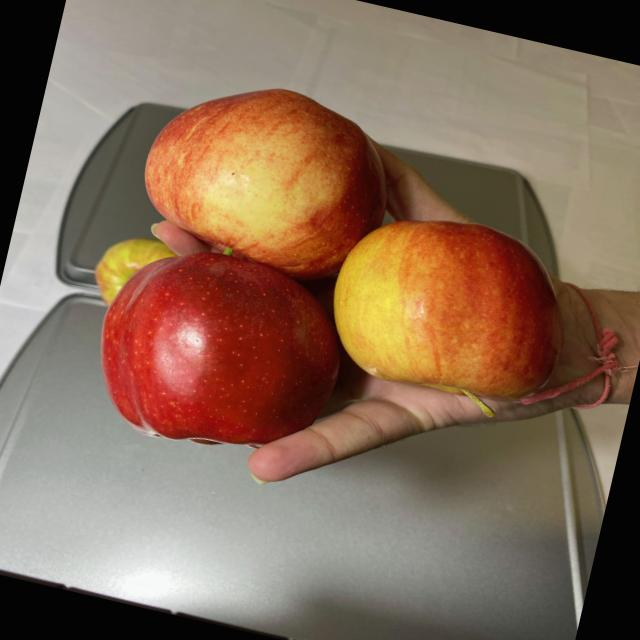apple: (59, 53, 614, 525)
